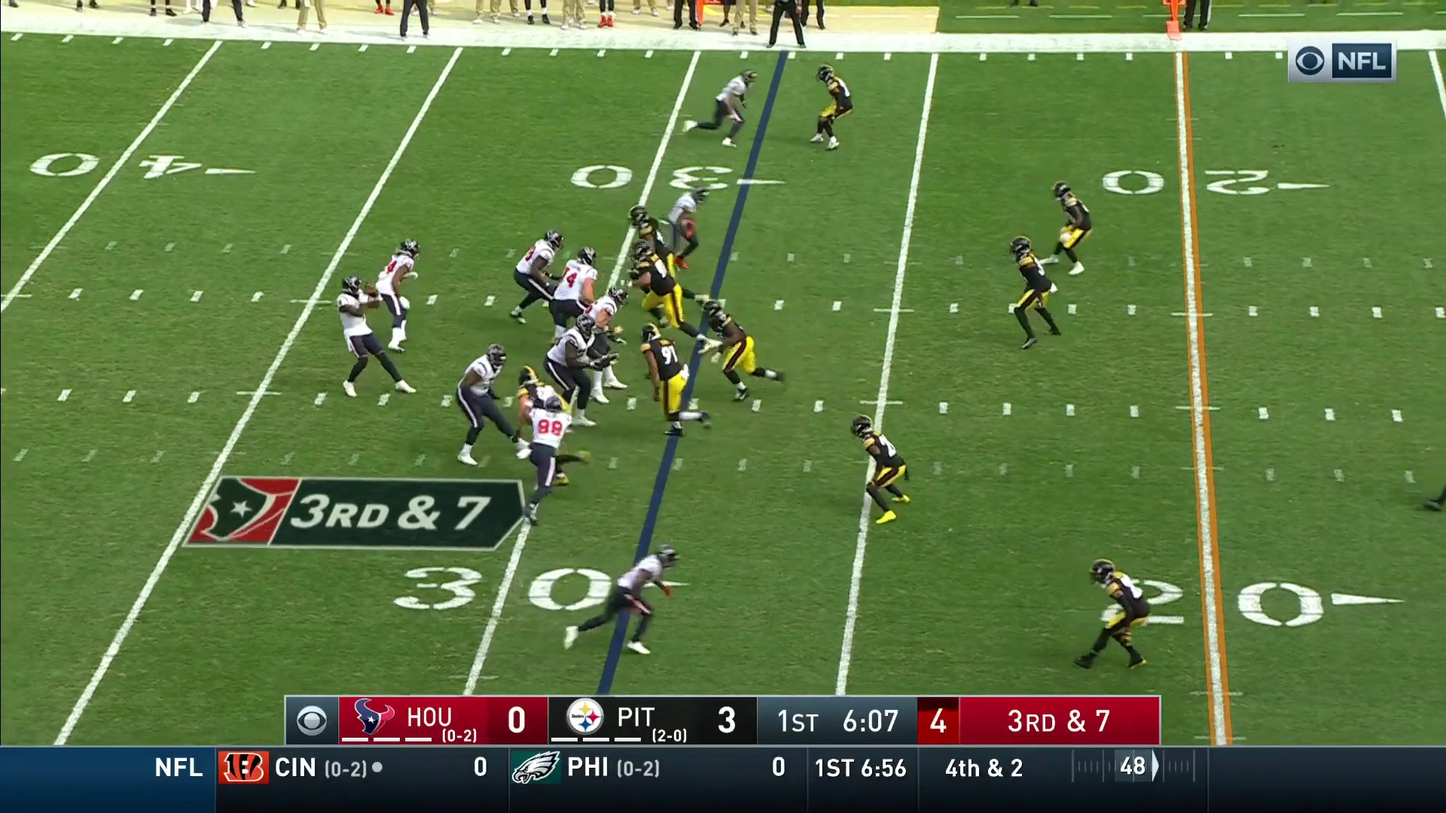Player: (457, 344, 506, 464), (545, 317, 598, 419), (563, 307, 616, 406), (525, 392, 569, 508), (513, 230, 562, 318), (518, 368, 568, 454), (338, 272, 372, 385), (627, 206, 673, 286), (575, 292, 620, 373), (634, 243, 677, 323), (555, 246, 597, 319), (669, 194, 699, 270)
